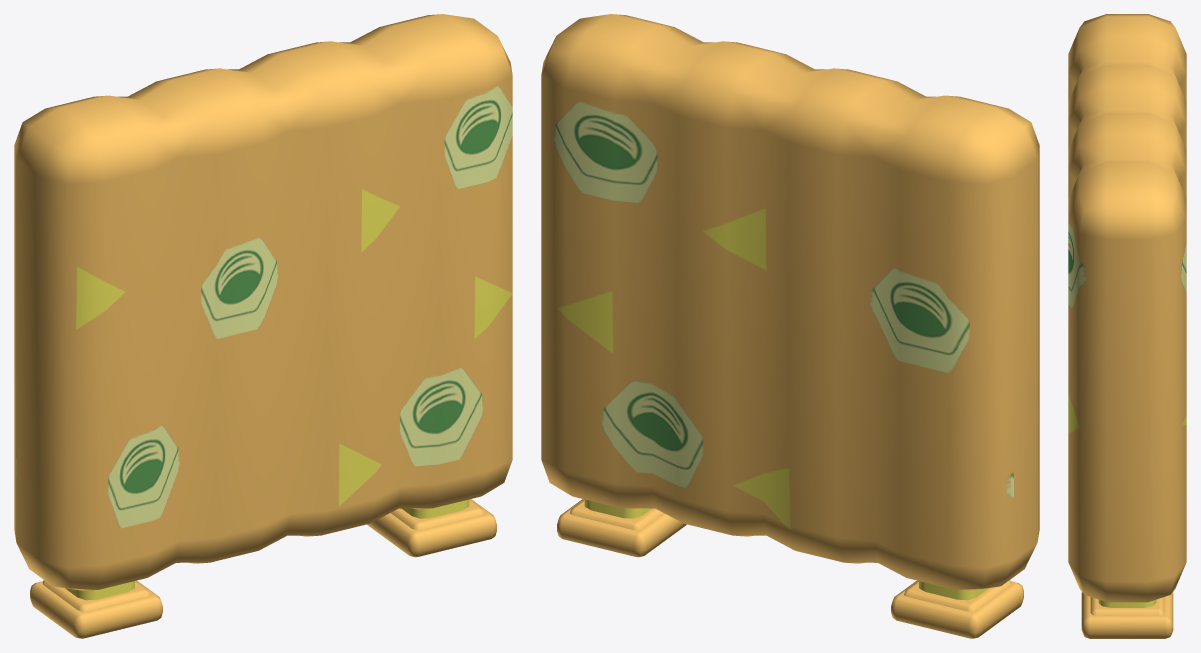
File: MEC0110018.fbx
The picture shows the model from 3 angles, left to right: view 1: azimuth 30°, elevation 25°; view 2: azimuth 150°, elevation 25°; view 3: azimuth 270°, elevation 25°; orthographic projection. The views are drawn at different scales.
Visible parts, largest first — view 1: smMEC0110018; view 2: smMEC0110018; view 3: smMEC0110018.
Boxes of the visible parts, bbox=[...] form: smMEC0110018: bbox=[14, 14, 512, 638]; smMEC0110018: bbox=[541, 14, 1039, 638]; smMEC0110018: bbox=[1068, 14, 1186, 638].
Size of the model in its own units: 363 by 371 by 88.36.
Materials: 1 (1 with a texture image).
